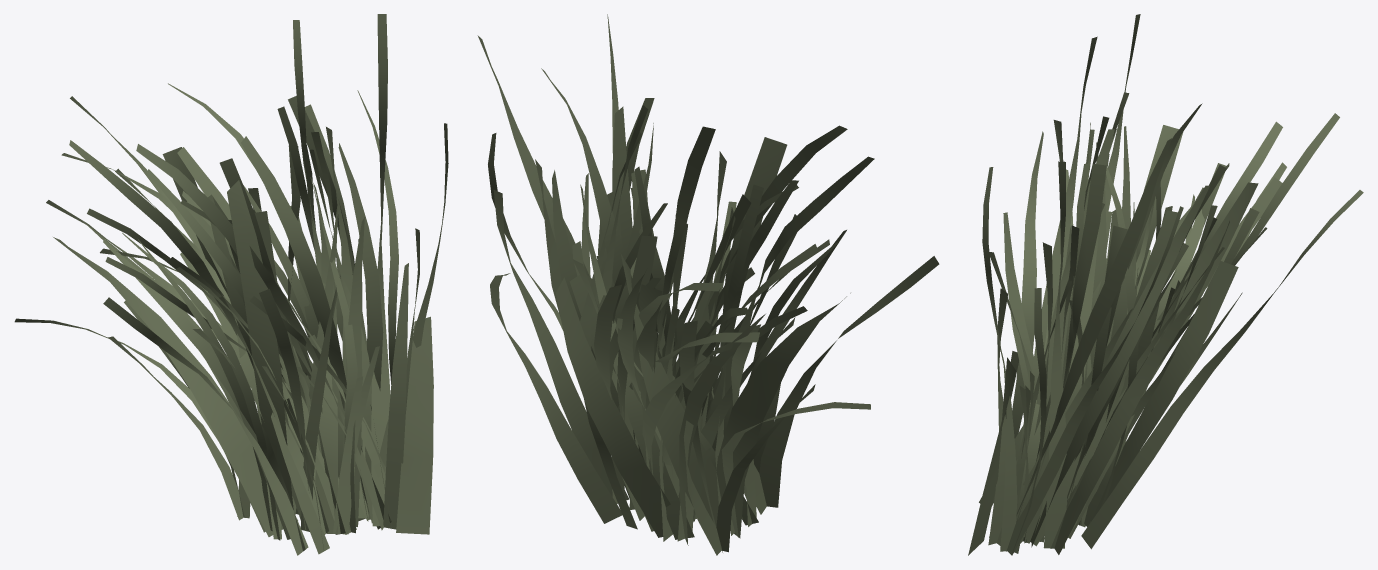
Rendered from Mato.fbx.
3 renders of one model, left to right at view 1: azimuth 30°, elevation 25°; view 2: azimuth 150°, elevation 25°; view 3: azimuth 270°, elevation 25°, orthographic. The views are drawn at different scales.
Visible parts, largest first — view 1: Mato; view 2: Mato; view 3: Mato.
Boxes of the visible parts, x1,y1,x2,y2 form: Mato: (14, 14, 448, 555); Mato: (477, 14, 939, 555); Mato: (968, 14, 1363, 555).
Bounding box in the file's own units: 47.13 × 55.42 × 44.36.
